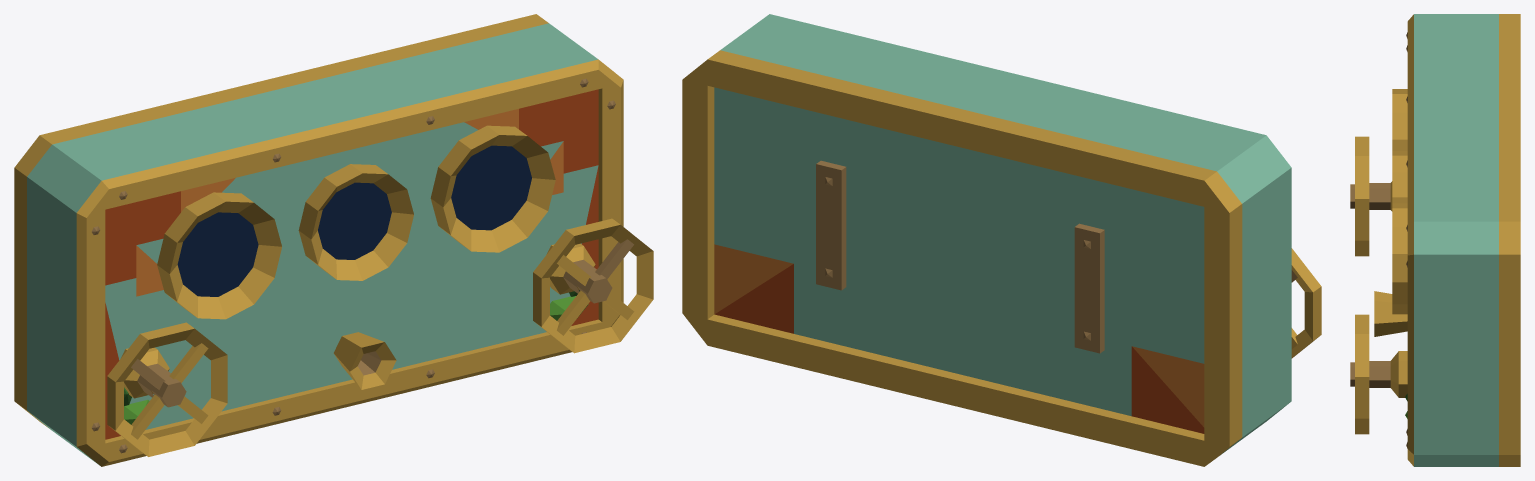
The model's file is gauge-and-valve-panel-f2164c.glb.
3 views of the same model, side by side, from view 1: azimuth 30°, elevation 25°; view 2: azimuth 150°, elevation 25°; view 3: azimuth 270°, elevation 25° (orthographic). The views are drawn at different scales.
Visible parts, largest first — view 1: gauge-and-valve-panel, handwheel-right, handwheel-left; view 2: gauge-and-valve-panel, handwheel-left; view 3: gauge-and-valve-panel, handwheel-left, handwheel-right.
Boxes of the visible parts, x1,y1,x2,y2 form: gauge-and-valve-panel: [14, 14, 623, 466]; handwheel-right: [533, 218, 653, 353]; handwheel-left: [107, 322, 227, 456]; gauge-and-valve-panel: [682, 14, 1291, 466]; handwheel-left: [1291, 248, 1321, 358]; gauge-and-valve-panel: [1369, 14, 1520, 466]; handwheel-left: [1350, 136, 1369, 256]; handwheel-right: [1350, 314, 1369, 434].
Bounding box in the file's own units: 1.2 × 0.6 × 0.377.
